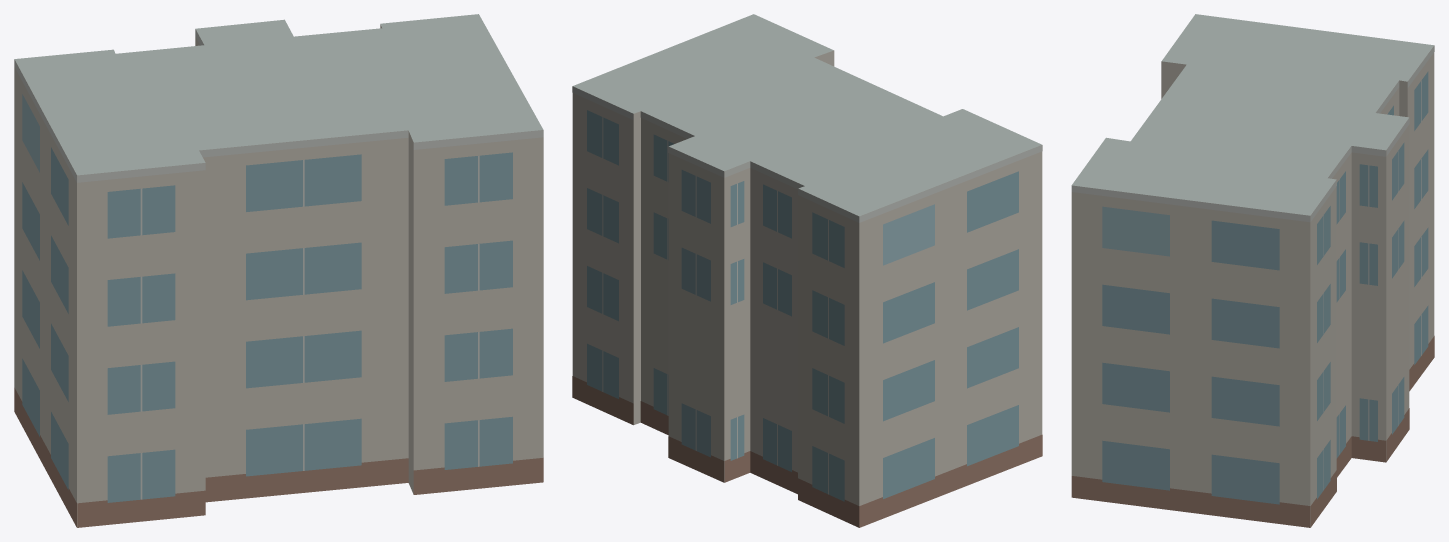
Rendered from survey-upis-32873585.glb.
3 views of the same model, side by side, from view 1: azimuth 30°, elevation 25°; view 2: azimuth 150°, elevation 25°; view 3: azimuth 270°, elevation 25° (orthographic). The views are drawn at different scales.
Visible parts, largest first — view 1: survey-upis-32873585.tmp; view 2: survey-upis-32873585.tmp; view 3: survey-upis-32873585.tmp.
Part boxes in pixels (box(x1,y1,x2,y2)): survey-upis-32873585.tmp: box(14, 14, 543, 527); survey-upis-32873585.tmp: box(572, 14, 1042, 527); survey-upis-32873585.tmp: box(1071, 14, 1434, 527).
Bounding box in the file's own units: 16.09 × 11.6 × 12.23.
